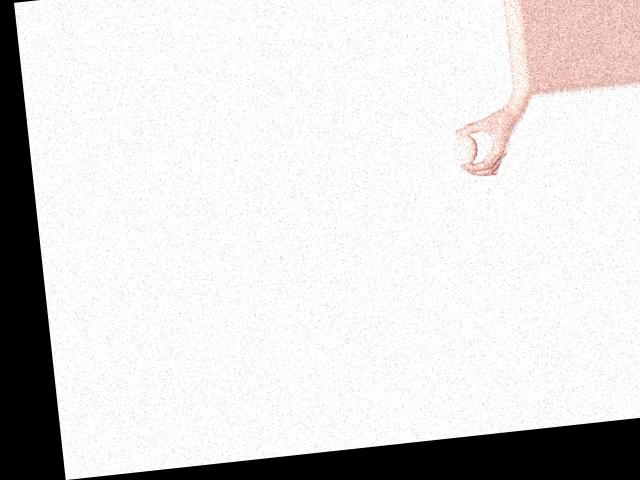egg: (452, 132, 479, 165)
